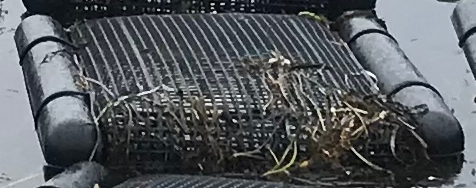bag: (14, 11, 465, 169)
